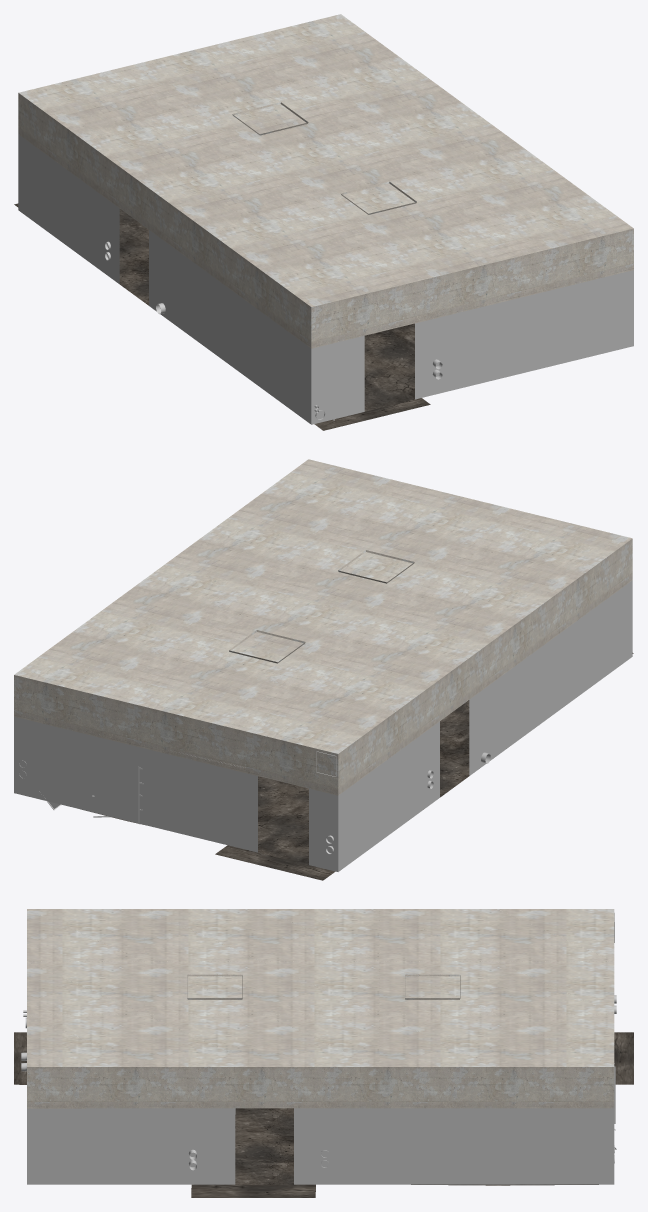
The model's file is Hall.FBX.
3 views of the same model, one above another, from view 1: azimuth 30°, elevation 25°; view 2: azimuth 150°, elevation 25°; view 3: azimuth 270°, elevation 25° (orthographic).
Visible parts, largest first — view 1: Hall_cell, Hall, Hall_floor; view 2: Hall_cell, Hall, Hall_floor; view 3: Hall_cell, Hall, Hall_floor.
Boxes of the visible parts, bbox=[...] form: Hall_cell: bbox=[18, 14, 633, 348]; Hall: bbox=[18, 134, 633, 424]; Hall_floor: bbox=[14, 203, 430, 430]; Hall_cell: bbox=[14, 459, 632, 795]; Hall: bbox=[14, 580, 632, 871]; Hall_floor: bbox=[86, 653, 633, 880]; Hall_cell: bbox=[27, 909, 614, 1108]; Hall: bbox=[27, 1108, 614, 1184]; Hall_floor: bbox=[14, 1032, 633, 1197].
Bounding box in the file's own units: 1155 × 400 × 1769.
